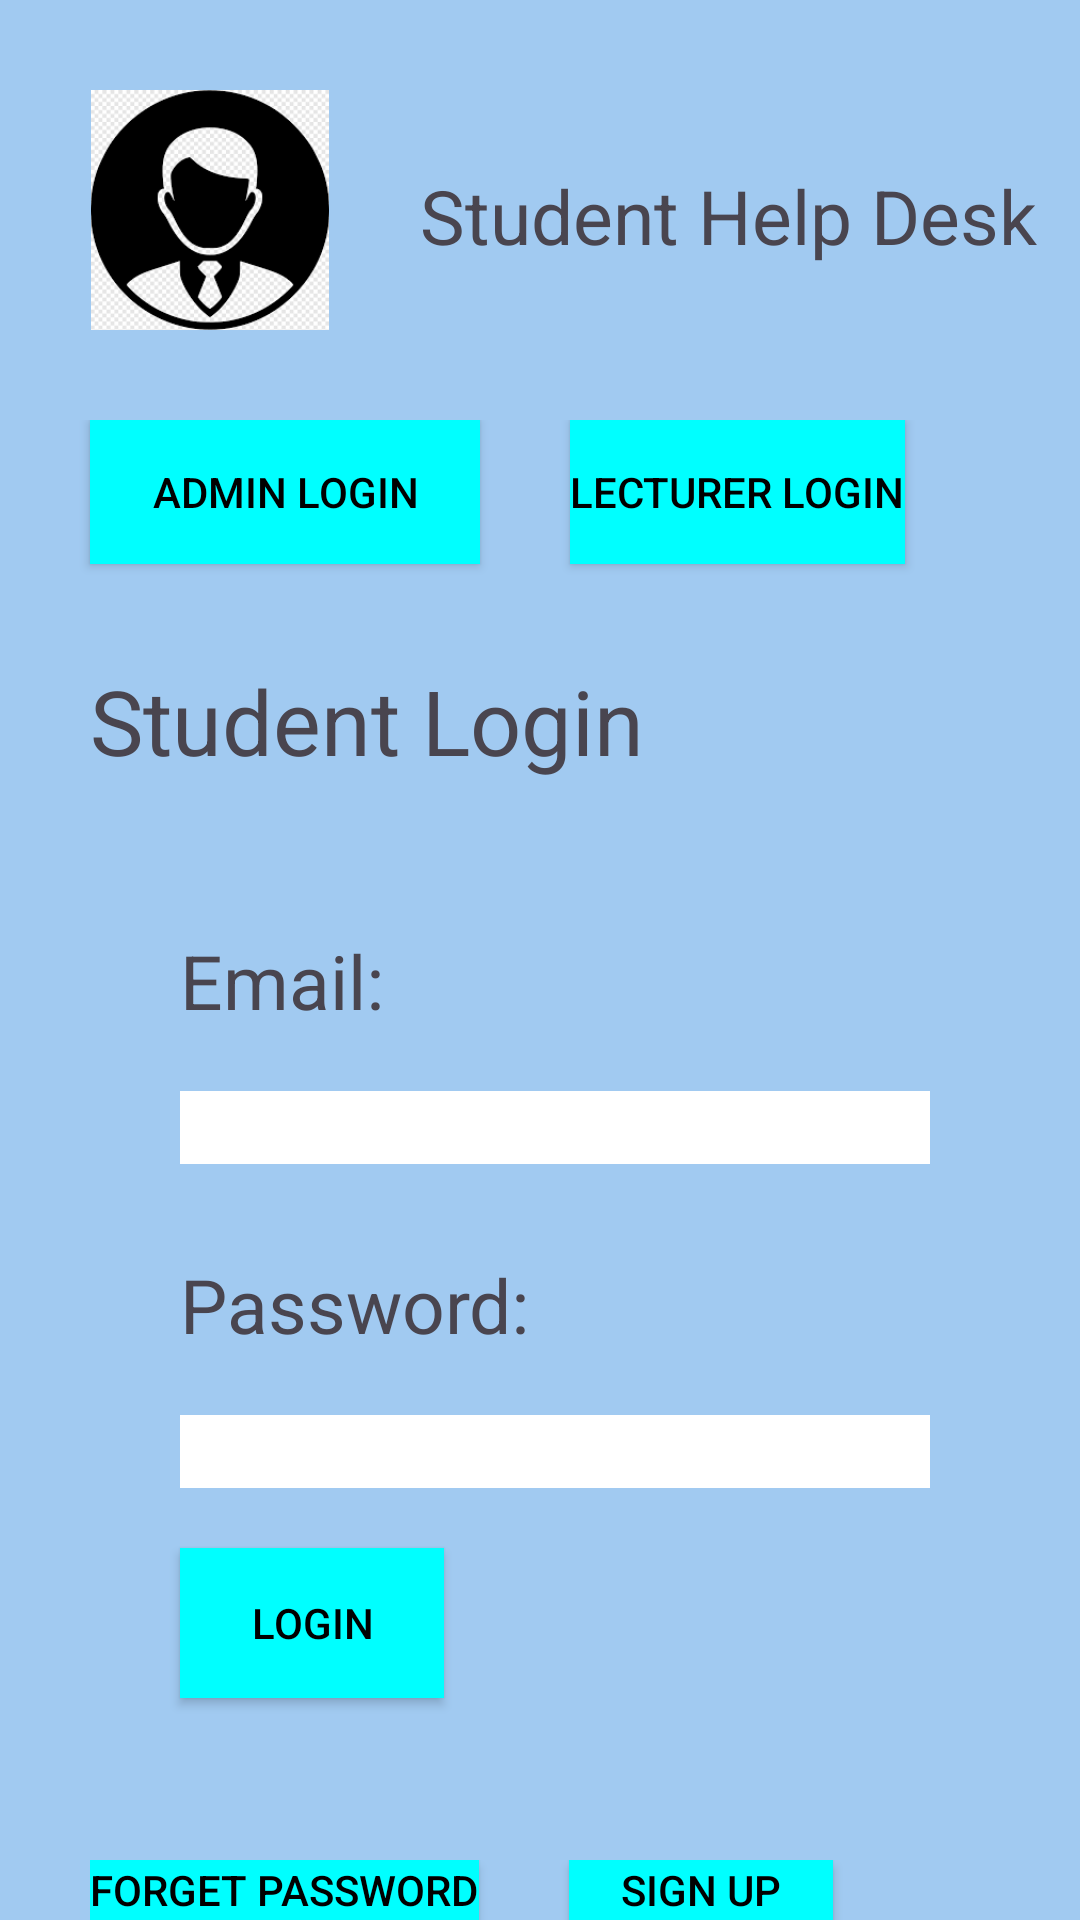

Named icons in this screenshot (1080x1920) and their centers, (x=x, y=y):
profile: (x=210, y=210)
